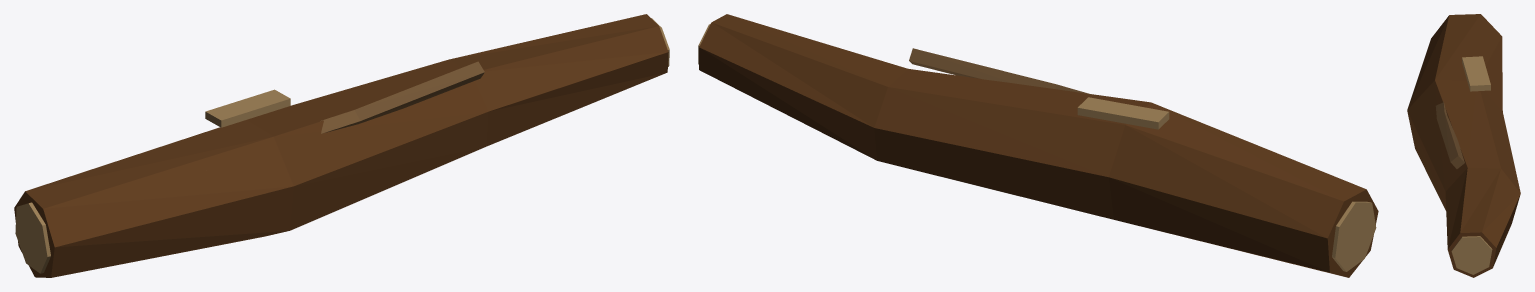
File: item_stick_short.glb
3 renders of one model, left to right at view 1: azimuth 30°, elevation 25°; view 2: azimuth 150°, elevation 25°; view 3: azimuth 270°, elevation 25°, orthographic. The views are drawn at different scales.
Parts seen in each view (by area): view 1: item_stick_short; view 2: item_stick_short; view 3: item_stick_short.
Boxes of the visible parts, <box> form: item_stick_short: <box>14,14,669,277</box>; item_stick_short: <box>698,14,1378,277</box>; item_stick_short: <box>1407,14,1520,277</box>.
Size of the model in its own units: 0.5504 by 0.0999 by 0.1087.
